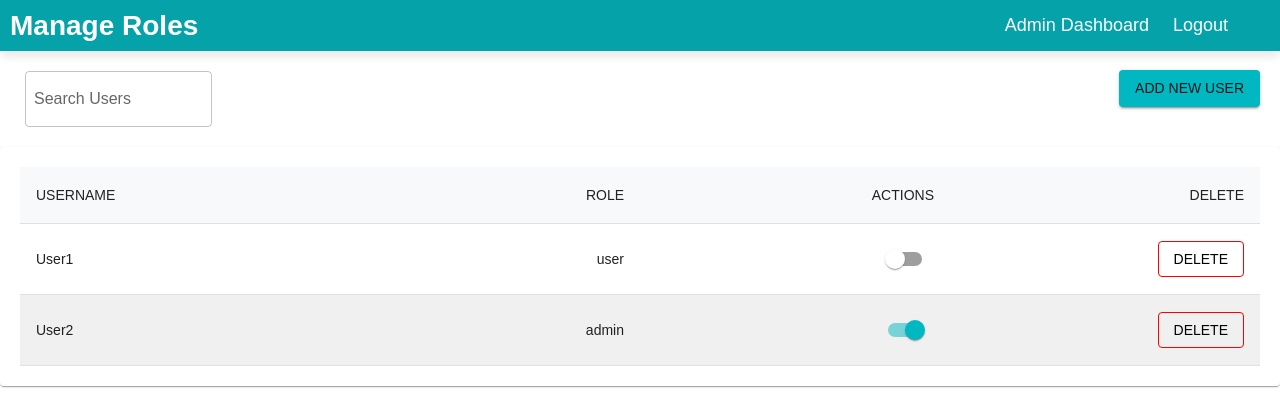
handles deleting users
The image size is (1280, 405).
Check: the text "User1" is shown, box [20, 224, 330, 294]
Check: the text "User2" is shown, box [20, 294, 330, 366]
Click the button "Delete" in the row of "User1" at (1201, 259), box [1158, 241, 1244, 277]
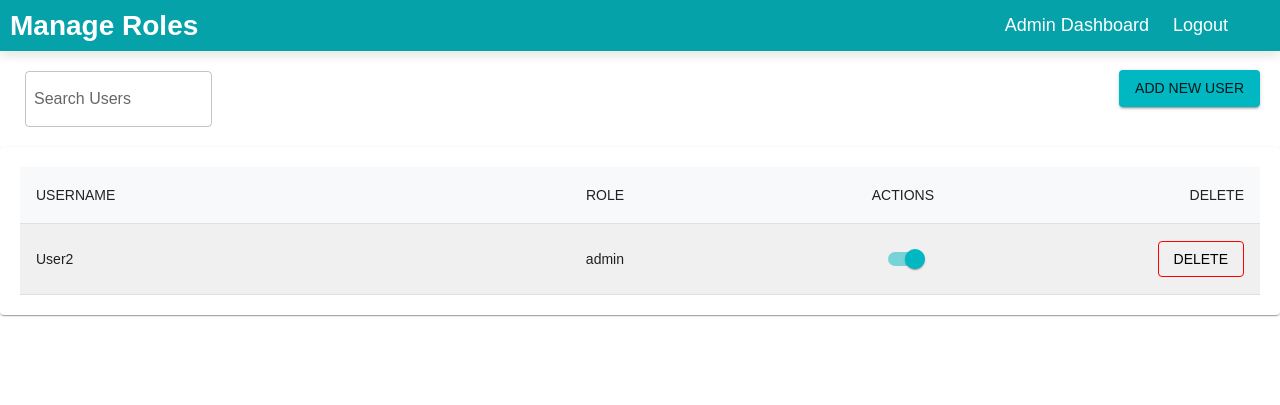
Check: the text "User1" is gone
